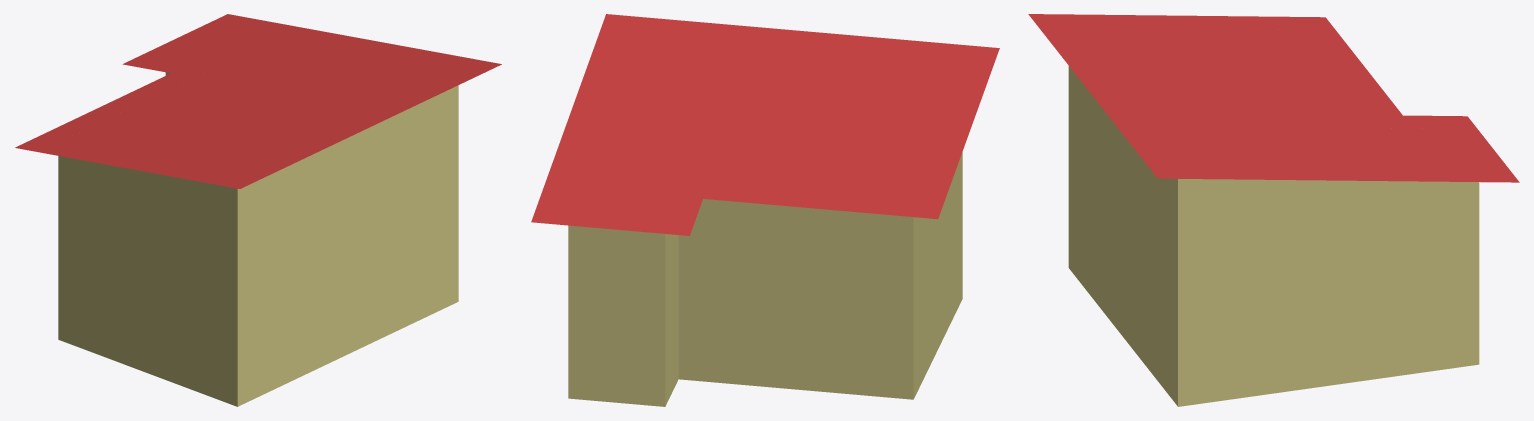
3 views of the same model, side by side, from view 1: azimuth 30°, elevation 25°; view 2: azimuth 150°, elevation 25°; view 3: azimuth 270°, elevation 25° (orthographic). The views are drawn at different scales.
Size of the model in its own units: 15.19 by 15.29 by 8.42.
